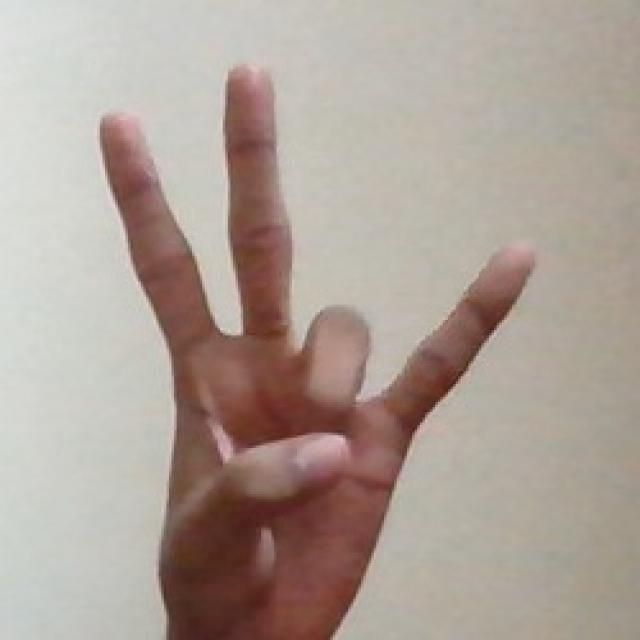Numeric-7: (95, 57, 539, 617)
